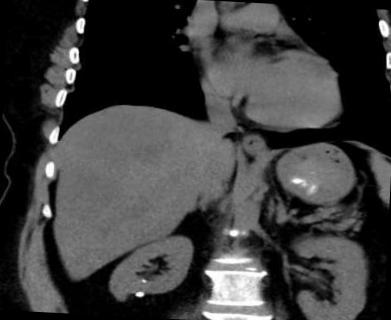Tas_Var: (132, 290, 146, 299), (138, 278, 150, 284)
